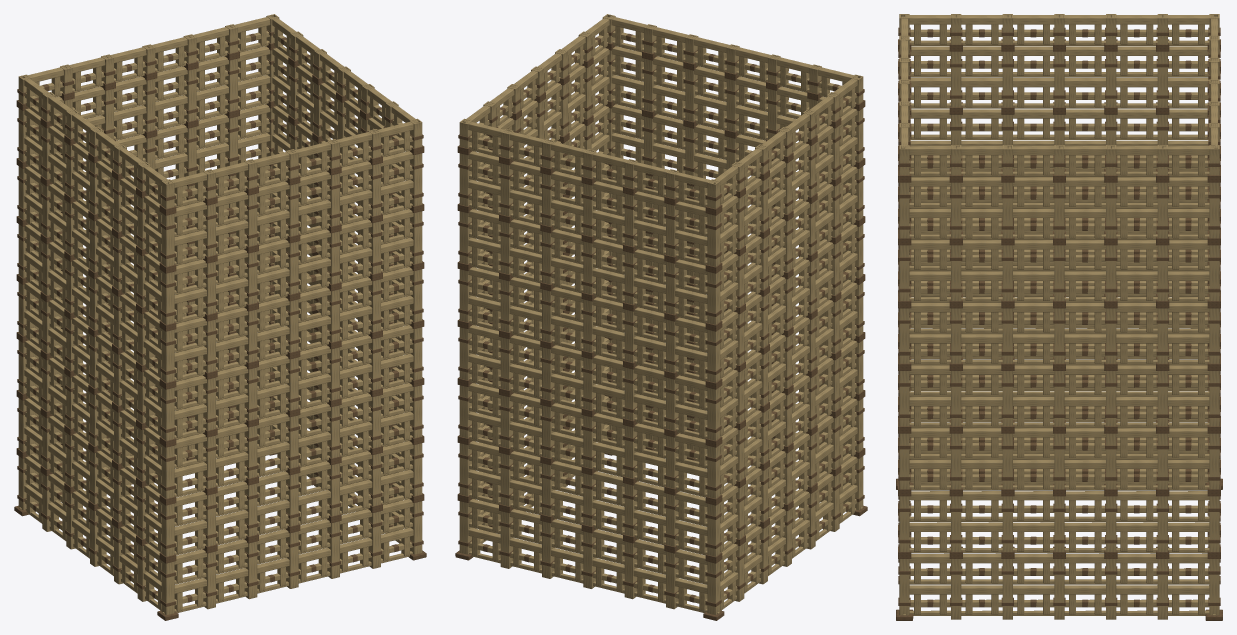
3 renders of one model, left to right at view 1: azimuth 30°, elevation 25°; view 2: azimuth 150°, elevation 25°; view 3: azimuth 270°, elevation 25°, orthographic. The views are drawn at different scales.
Parts seen in each view (by area): view 1: Tier 0 side 0 post 0, Tier 5 side 0 post 0, Tier 6 side 0 post 0, Tier 1 side 0 post 0, Tier 4 side 0 post 0, Tier 2 side 0 post 0, Tier 3 side 0 post 0, Tier 0 side 0 post 2, Tier 0 side 0 post 3, Tier 0 side 0 post 4, Tier 0 side 0 post 1; view 2: Tier 0 side 3 post 0, Tier 5 side 3 post 0, Tier 6 side 3 post 0, Tier 4 side 3 post 0, Tier 1 side 3 post 0, Tier 2 side 3 post 0, Tier 3 side 3 post 0, Tier 0 side 2 post 1, Tier 0 side 2 post 4, Tier 0 side 2 post 3, Tier 0 side 2 post 2, Tier 0 side 2 post 5; view 3: Tier 0 side 1 post 3, Tier 0 side 1 post 1, Tier 0 side 1 post 2, Tier 0 side 1 post 4, Tier 0 side 1 post 5, Tier 6 side 3 post 3, Tier 6 side 3 post 1, Tier 6 side 3 post 2, Tier 6 side 3 post 4, Tier 6 side 3 post 5, Tier 2 side 1 post 0, Tier 2 side 1 post 3 (+42 smaller).
Part boxes in pixels (<box>): Tier 0 side 0 post 0: <box>161,561,174,614</box>; Tier 5 side 0 post 0: <box>161,271,174,324</box>; Tier 6 side 0 post 0: <box>161,213,174,266</box>; Tier 1 side 0 post 0: <box>161,503,174,556</box>; Tier 4 side 0 post 0: <box>161,329,174,382</box>; Tier 2 side 0 post 0: <box>161,445,174,498</box>; Tier 3 side 0 post 0: <box>161,387,174,440</box>; Tier 0 side 0 post 2: <box>244,541,257,599</box>; Tier 0 side 0 post 3: <box>286,531,298,588</box>; Tier 0 side 0 post 4: <box>327,521,339,578</box>; Tier 0 side 0 post 1: <box>203,551,215,609</box>; Tier 0 side 3 post 0: <box>707,561,720,614</box>; Tier 5 side 3 post 0: <box>707,271,720,324</box>; Tier 6 side 3 post 0: <box>707,213,720,266</box>; Tier 4 side 3 post 0: <box>707,329,720,382</box>; Tier 1 side 3 post 0: <box>707,503,720,556</box>; Tier 2 side 3 post 0: <box>707,445,720,498</box>; Tier 3 side 3 post 0: <box>707,387,720,440</box>; Tier 0 side 2 post 1: <box>500,511,513,568</box>; Tier 0 side 2 post 4: <box>624,541,637,599</box>; Tier 0 side 2 post 3: <box>583,531,595,588</box>; Tier 0 side 2 post 2: <box>542,521,554,578</box>; Tier 0 side 2 post 5: <box>666,551,678,609</box>; Tier 0 side 1 post 3: <box>1054,559,1064,619</box>; Tier 0 side 1 post 1: <box>951,559,961,619</box>; Tier 0 side 1 post 2: <box>1002,559,1012,619</box>; Tier 0 side 1 post 4: <box>1106,559,1116,619</box>; Tier 0 side 1 post 5: <box>1157,559,1167,619</box>; Tier 6 side 3 post 3: <box>1054,51,1064,107</box>; Tier 6 side 3 post 1: <box>1157,51,1167,107</box>; Tier 6 side 3 post 2: <box>1106,51,1116,107</box>; Tier 6 side 3 post 4: <box>1002,51,1012,107</box>; Tier 6 side 3 post 5: <box>951,51,961,107</box>; Tier 2 side 1 post 0: <box>899,433,909,489</box>; Tier 2 side 1 post 3: <box>1054,433,1064,489</box>.
Size of the model in its own units: 2.85 by 4.53 by 2.85.
2 materials, 2 textured.
